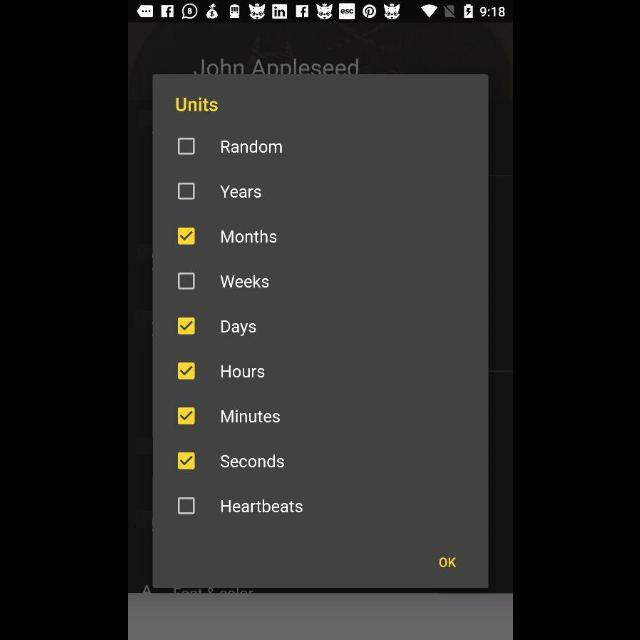checkbox: (176, 227, 194, 245), (178, 182, 195, 200), (178, 272, 195, 290), (178, 362, 195, 380), (178, 452, 195, 470), (178, 497, 195, 515), (176, 138, 194, 154), (176, 318, 194, 334), (178, 408, 195, 424)
panel: (152, 75, 488, 588)
text: (192, 58, 358, 74), (220, 499, 302, 513), (220, 454, 284, 468), (221, 140, 283, 154), (221, 230, 277, 244), (220, 410, 280, 422), (175, 97, 219, 113), (220, 274, 268, 288), (221, 364, 265, 378), (220, 319, 256, 336), (219, 186, 261, 198)
textbutton: (438, 556, 456, 568)
uppertaskbar: (128, 1, 512, 23)
